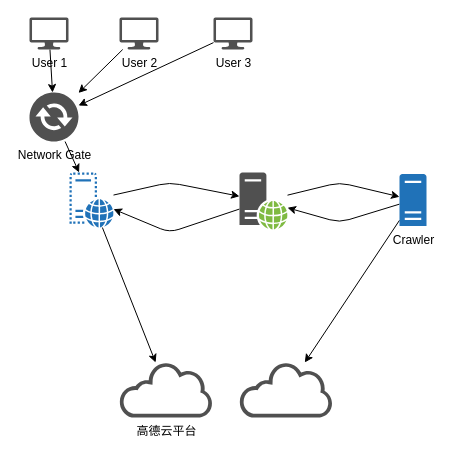
Some shapes in this 451 by 455 pixel diagram are drawn without their labels. The shapes that lost their labels are listed below. From the top down, each one's centre as x and y in pixels, then its label:
point (91, 199): Serve
point (263, 200): Flask
point (286, 389): 贝壳开放平台
